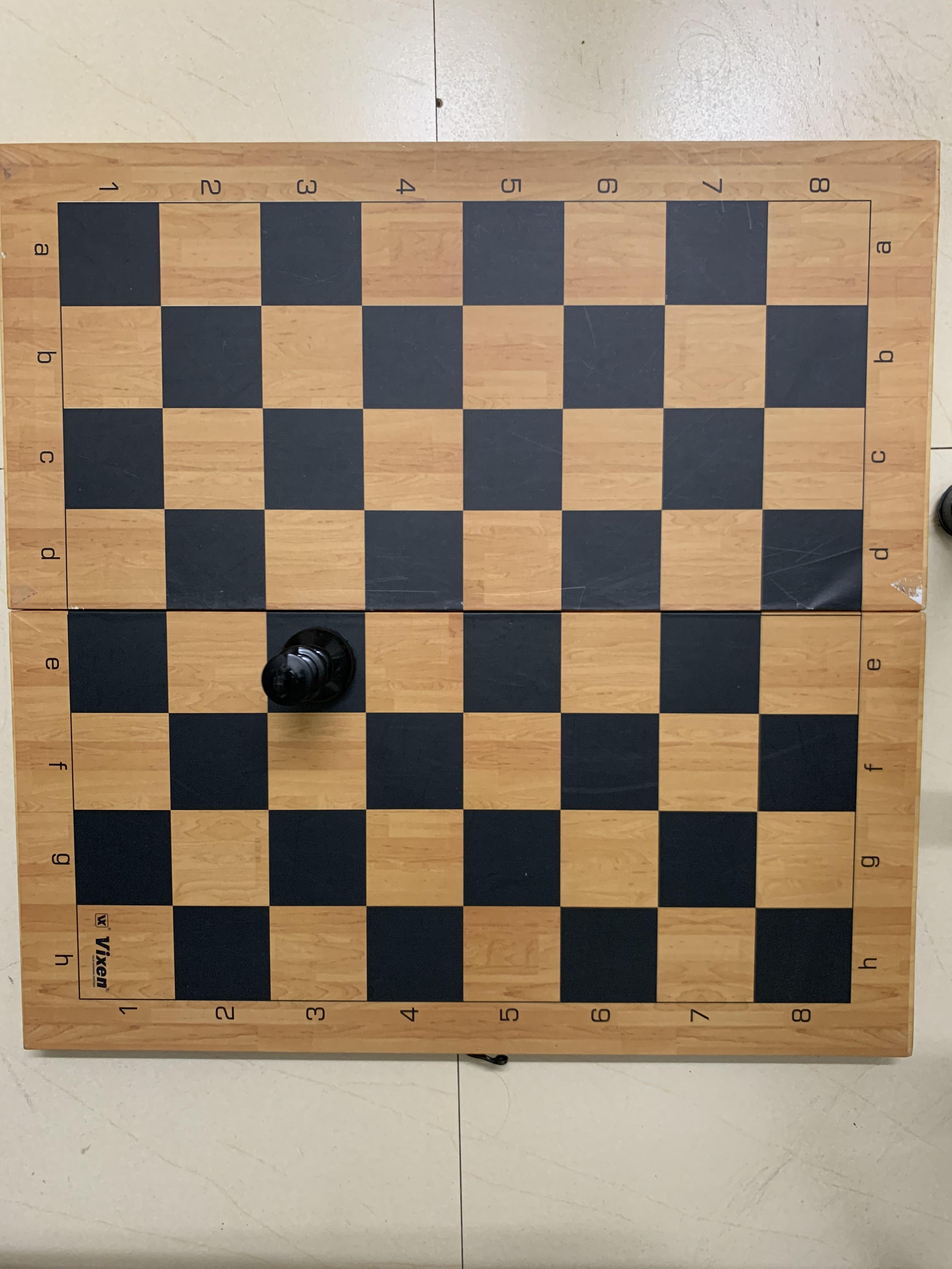black_king: (254, 609, 366, 718)
